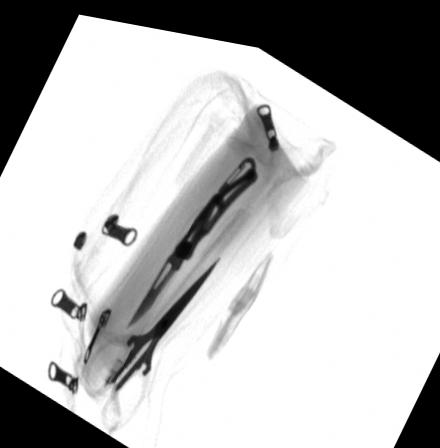Knife: (126, 147, 258, 325)
Scissors: (80, 247, 221, 425)
